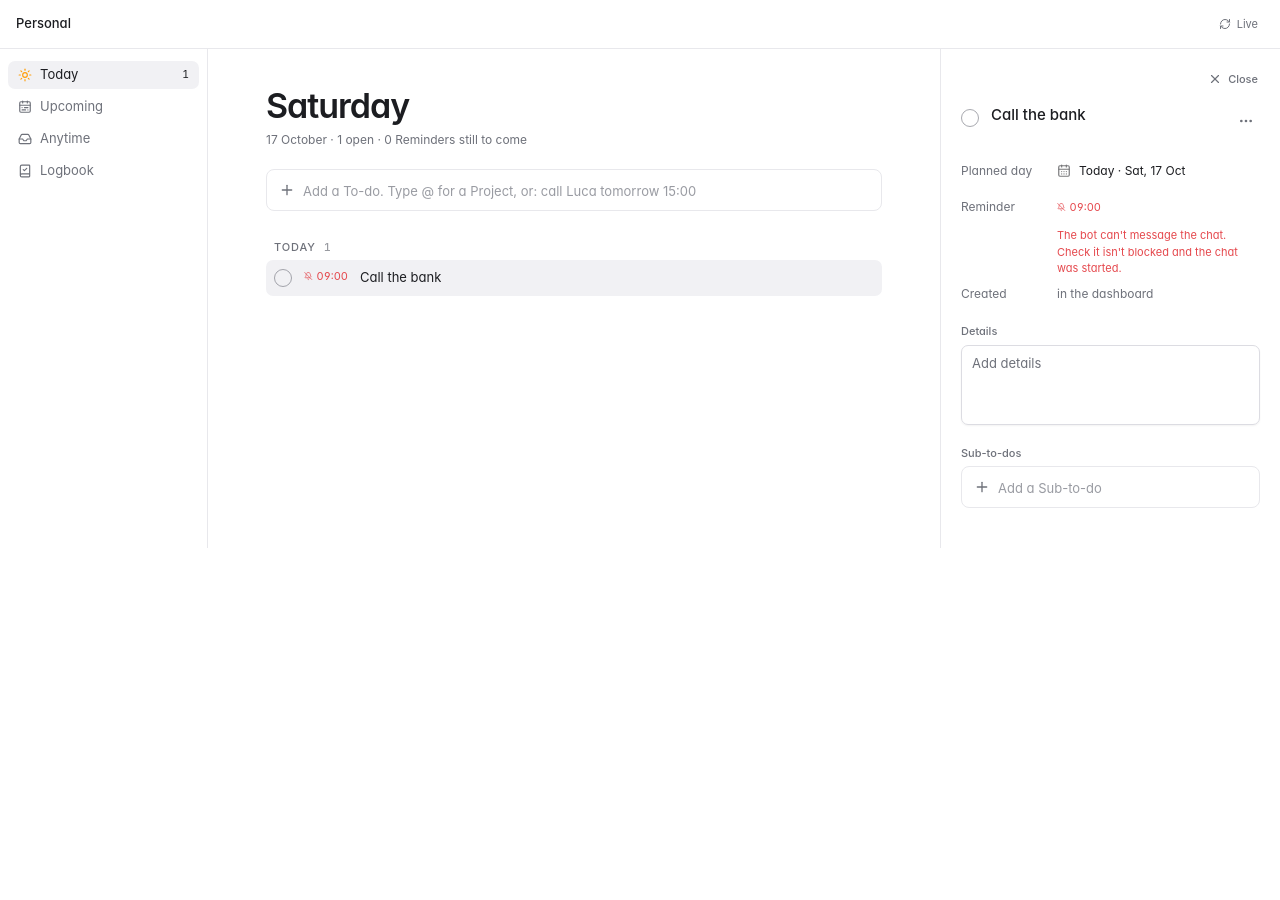
Reminder in the details panel › re-arms a failed Reminder when a new time is set: the failure goes away
Click the button named "Change Reminder". click: (1154, 207)
box: top-left (1049, 191), bottom-right (1260, 223)
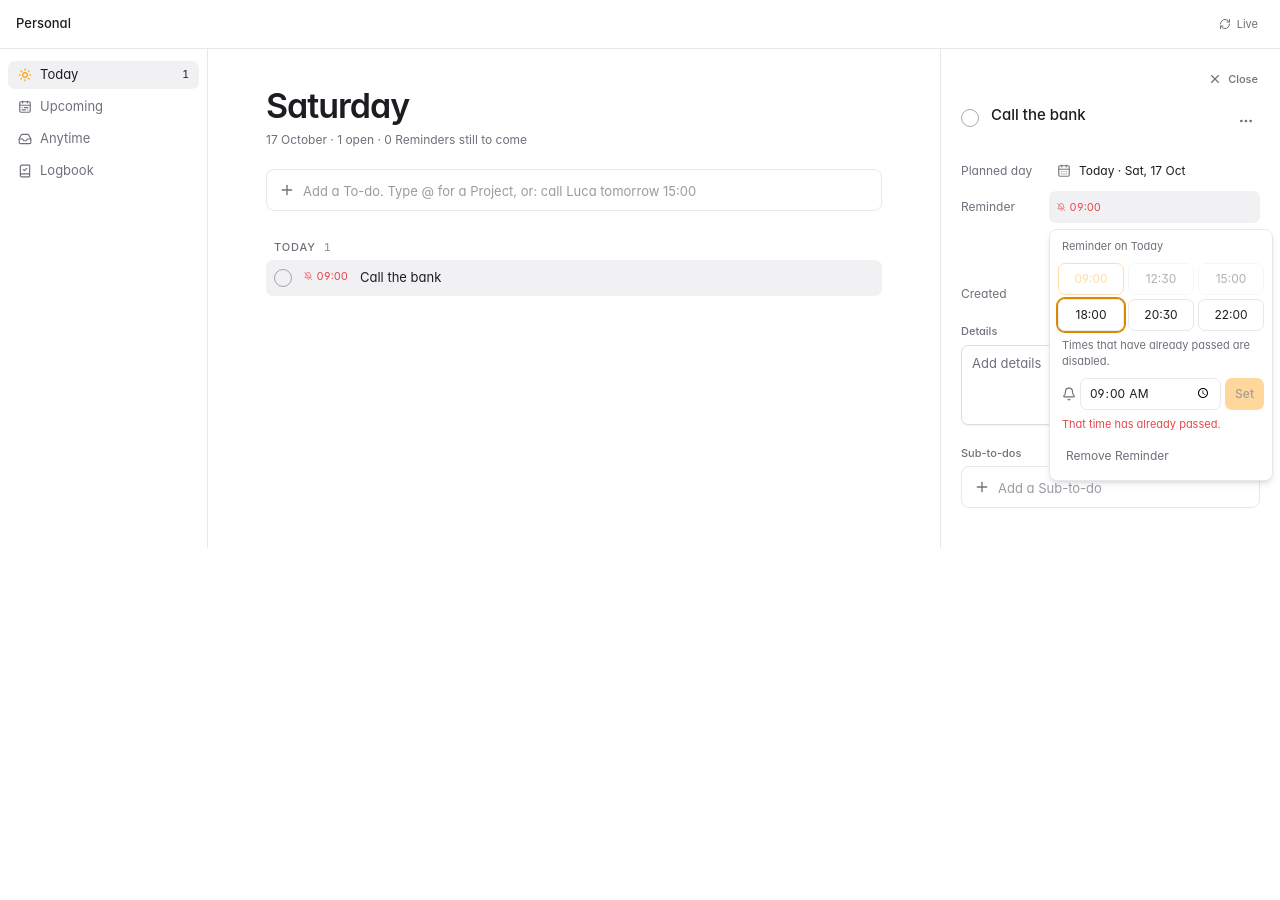
Click the button "20:30". click: (1161, 314)
box: top-left (1128, 298), bottom-right (1194, 330)
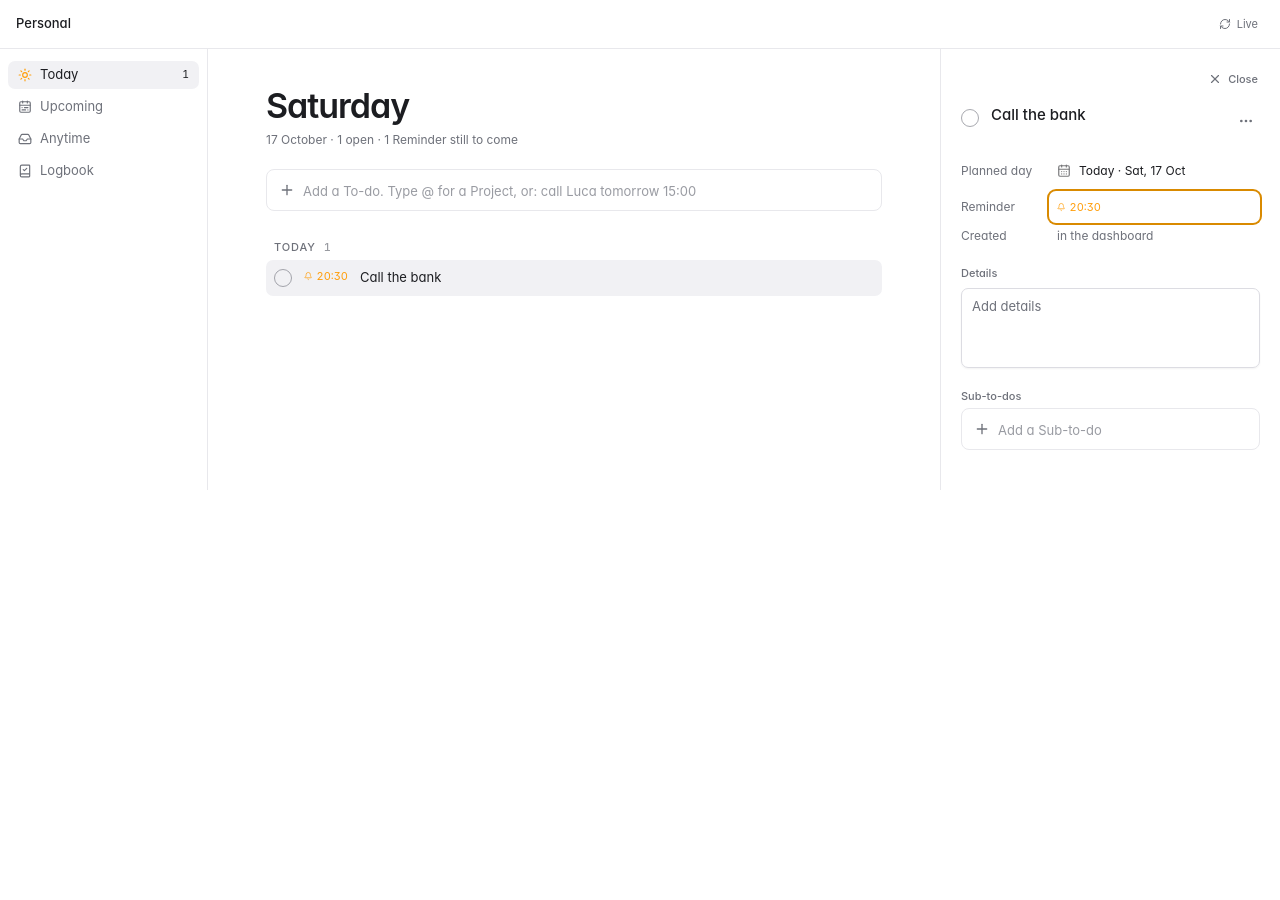
expect the element named "To-do details" no longer shows "The bot can't message the chat. Check it isn't blocked and the chat was started.": met, box top-left (940, 49), bottom-right (1279, 490)
